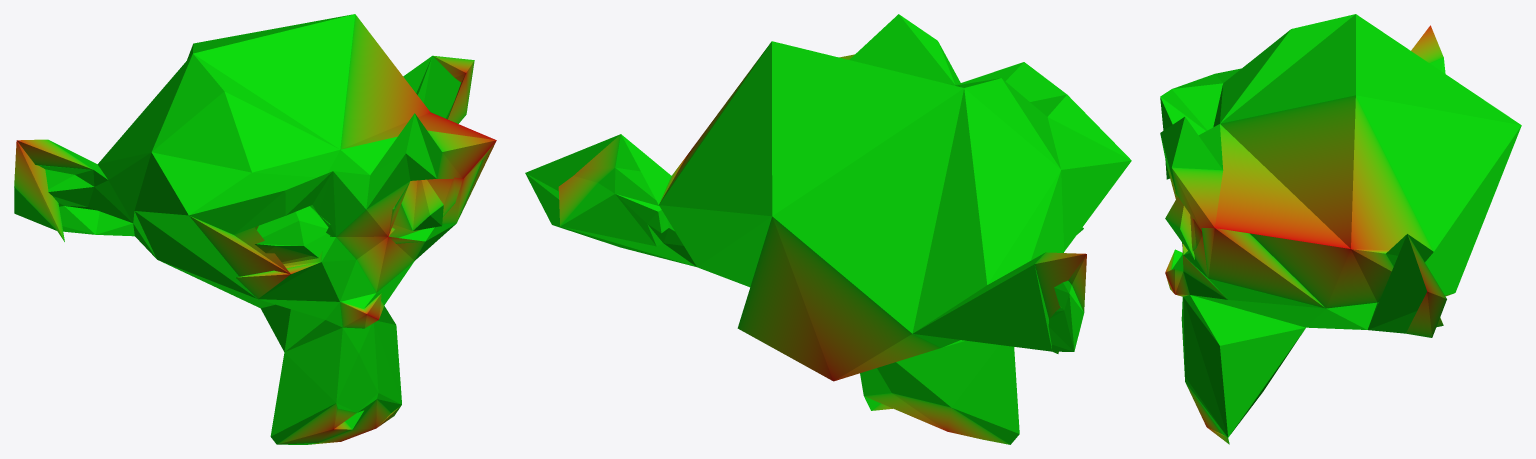
Rendered from after_cleaning_reconquest_2.obj.
The picture shows the model from 3 angles, left to right: view 1: azimuth 30°, elevation 25°; view 2: azimuth 150°, elevation 25°; view 3: azimuth 270°, elevation 25°; orthographic projection. The views are drawn at different scales.
Size of the model in its own units: 2.6 by 1.91 by 1.7.
